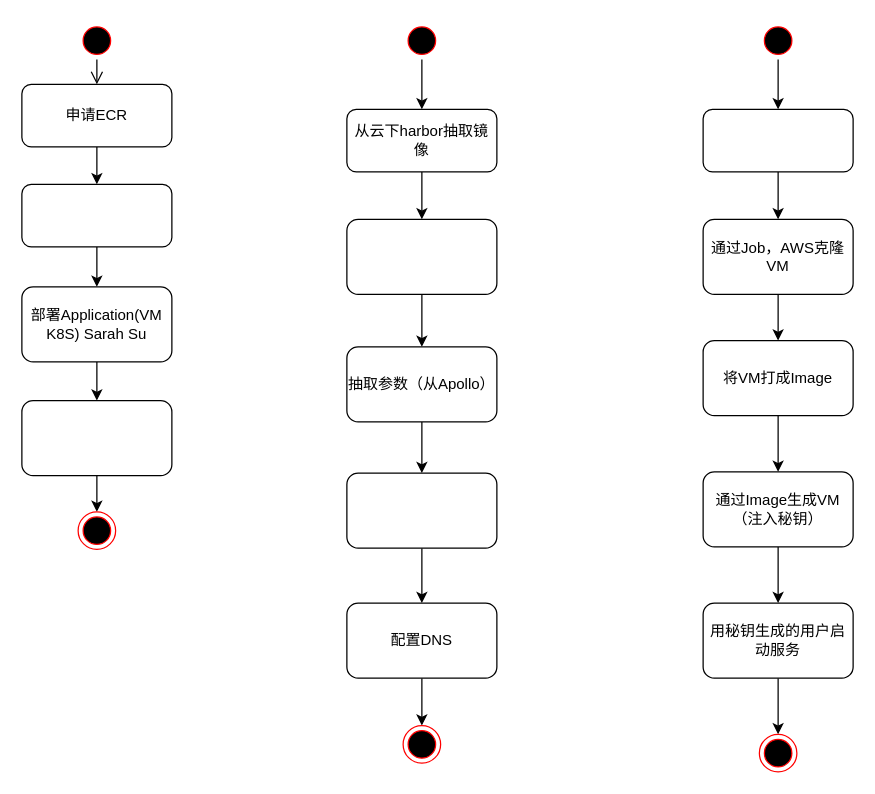
This 875x794 diagram has some shape labels left out. Here are the shapes that lost their labels. From the top down, the centre of each, then its label:
[777,140]: 从云下到云上复制（CloudEndure）
[96,215]: 申请EKS（Carrie Du）
[421,256]: 推送镜像到云上ECR
[96,437]: health check
[421,510]: 运行Helm
